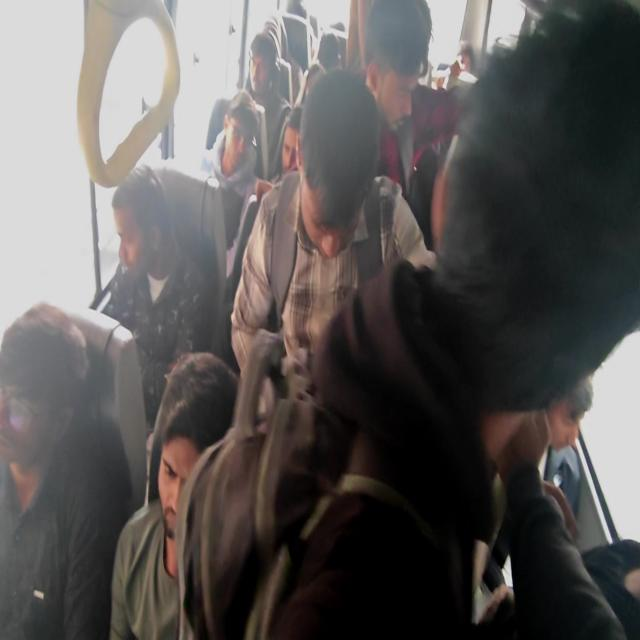person: (264, 1, 639, 637), (230, 67, 438, 394), (92, 163, 241, 430), (480, 373, 630, 638), (108, 351, 239, 638), (0, 301, 109, 638), (355, 0, 465, 251), (206, 31, 294, 183), (201, 89, 270, 201), (272, 106, 303, 183)
